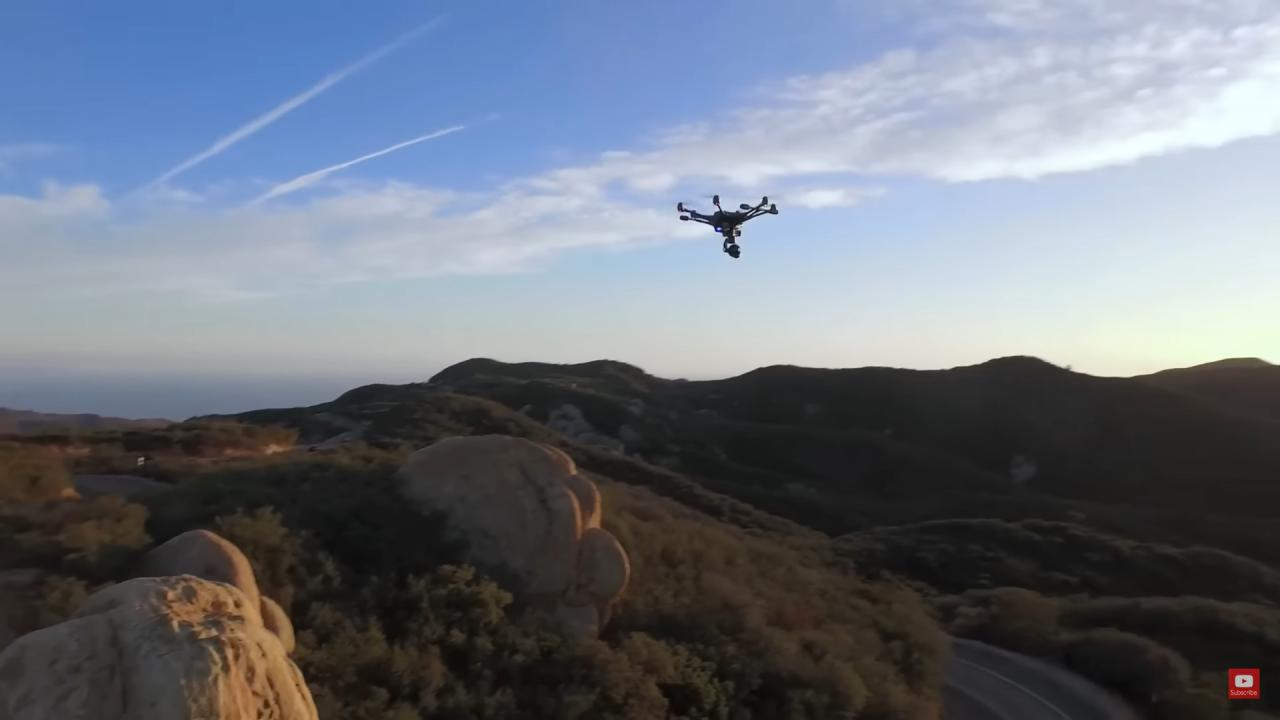Drone: (664, 187, 790, 266)
